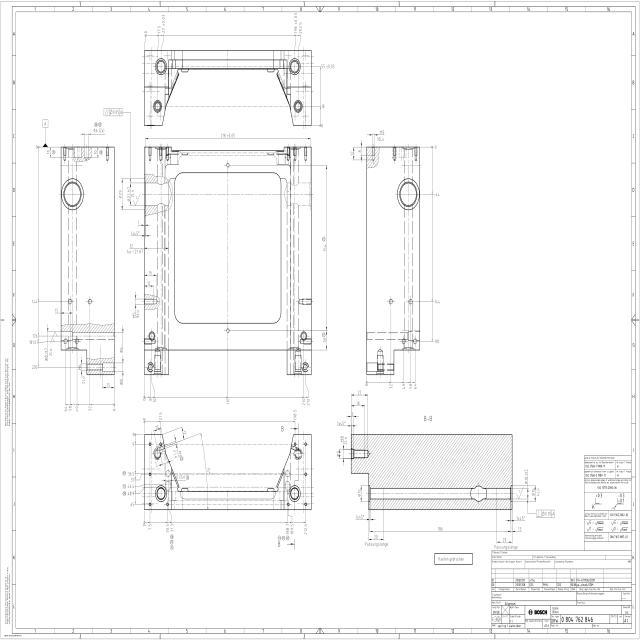dimension: (125, 242, 144, 255), (77, 363, 86, 385), (43, 347, 53, 362), (522, 467, 530, 485), (320, 62, 336, 70), (126, 185, 134, 201), (339, 433, 348, 447), (293, 12, 298, 36), (161, 12, 166, 34), (93, 126, 106, 134), (220, 132, 237, 138), (181, 428, 188, 442), (28, 338, 40, 346), (354, 513, 366, 521), (531, 485, 538, 498), (126, 469, 136, 478), (303, 521, 309, 536), (336, 419, 347, 427), (175, 472, 186, 480), (335, 448, 342, 460), (202, 464, 208, 478), (284, 522, 290, 536), (289, 523, 295, 537), (131, 310, 140, 319), (376, 136, 386, 144), (516, 514, 526, 522), (126, 489, 136, 497), (117, 188, 123, 201), (130, 229, 141, 236), (292, 408, 298, 420), (165, 522, 171, 534), (298, 21, 303, 35), (126, 483, 136, 490), (225, 395, 231, 406), (306, 396, 312, 407), (356, 488, 362, 499), (169, 523, 175, 534), (31, 332, 39, 340), (32, 362, 40, 370), (378, 128, 386, 136), (408, 380, 414, 390), (413, 380, 419, 390), (158, 410, 163, 422), (172, 450, 178, 460), (141, 518, 147, 528), (32, 298, 39, 306), (436, 525, 444, 532), (156, 24, 161, 35), (118, 378, 124, 387), (140, 416, 146, 425), (112, 402, 117, 412), (349, 148, 354, 158), (388, 380, 393, 390), (401, 380, 406, 390), (319, 122, 326, 129), (434, 298, 441, 305), (143, 29, 149, 37), (321, 102, 327, 110), (46, 148, 52, 156), (148, 269, 154, 277), (146, 280, 152, 288), (433, 143, 439, 151), (434, 190, 440, 198), (355, 400, 361, 408), (516, 525, 522, 533), (130, 476, 136, 484), (130, 500, 136, 508), (147, 522, 153, 530), (93, 148, 98, 157), (119, 345, 124, 354), (88, 404, 93, 413), (75, 403, 80, 412), (68, 403, 73, 412), (322, 244, 327, 253), (364, 379, 369, 388), (302, 396, 306, 407), (34, 144, 41, 150), (54, 307, 60, 314), (132, 431, 138, 438), (142, 396, 147, 404), (322, 336, 327, 344), (374, 532, 379, 540), (64, 403, 68, 412), (502, 536, 508, 542), (357, 389, 362, 396), (155, 423, 160, 430), (131, 440, 136, 447), (148, 396, 152, 404), (153, 396, 157, 404), (106, 382, 111, 388), (434, 338, 439, 344), (137, 220, 141, 227), (352, 410, 356, 417), (357, 148, 361, 154)
